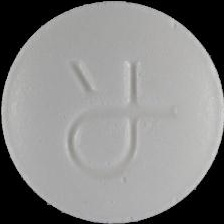55154-5996: (0, 0, 224, 224)
